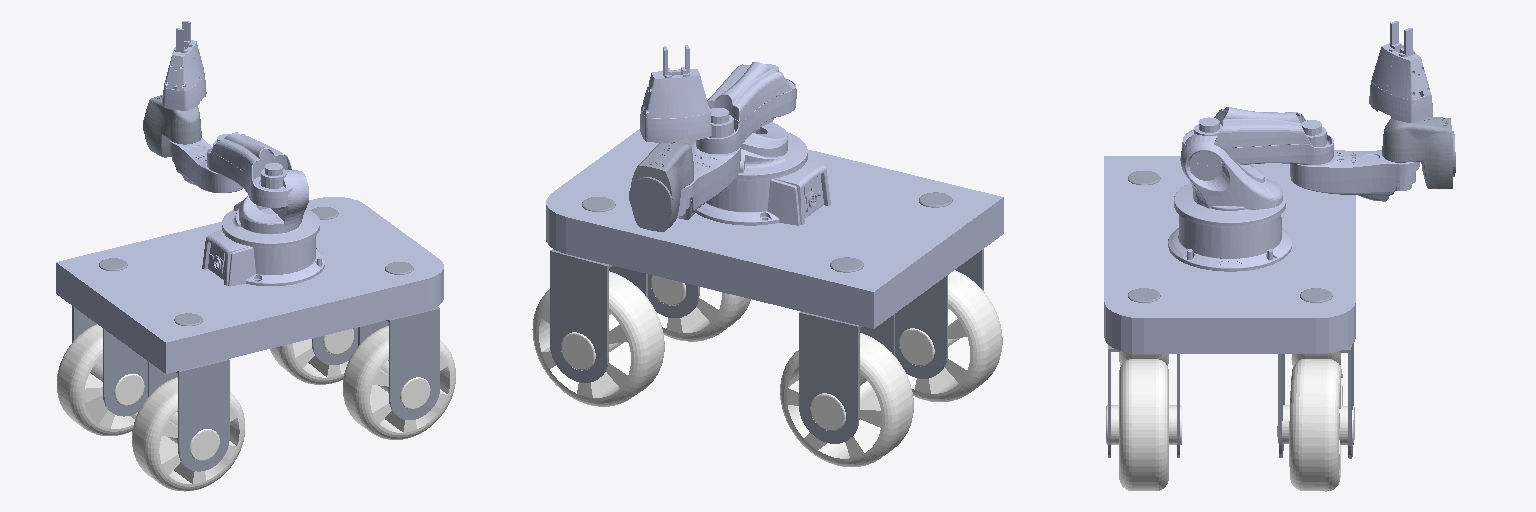
--- Facts derived from the render (not from the file) ---
Views: 3 orthographic renders of the robot side by side, from view 1: azimuth 30°, elevation 25°; view 2: azimuth 150°, elevation 25°; view 3: azimuth 270°, elevation 25°.
Robot: w_bot — 20 links, 19 joints (5 revolute, 8 continuous, 2 prismatic, 4 fixed); root link dummy_link; default pose: all joints at 0.
Links seen in each view (by area): view 1: base_link, front_right_wheel, rear_right_wheel, rear_left_wheel, rear_right_steering, front_right_steering, link0, link1, link2, rear_left_steering, front_left_wheel, link4 (+4 smaller); view 2: base_link, front_left_wheel, rear_left_wheel, rear_right_wheel, rear_left_steering, front_left_steering, link2, link0, link4, rear_right_steering, front_right_wheel, link1 (+5 smaller); view 3: base_link, front_left_wheel, front_right_wheel, link1, link2, link0, link3, link4, front_left_steering, gripper_palm_right, link5, front_right_steering (+1 smaller).
Link boxes in pixels (box(x1,y1,x2,y2)): base_link: box(56, 197, 443, 373); front_right_wheel: box(343, 326, 455, 439); rear_right_wheel: box(132, 377, 244, 491); rear_left_wheel: box(57, 324, 144, 435); rear_right_steering: box(148, 313, 229, 471); front_right_steering: box(358, 262, 439, 419); link0: box(202, 230, 324, 286); link1: box(222, 170, 319, 247); link2: box(207, 132, 292, 207); rear_left_steering: box(72, 258, 147, 416); front_left_wheel: box(270, 329, 353, 384); link4: box(143, 95, 201, 157); base_link: box(546, 129, 1003, 328); front_left_wheel: box(532, 271, 664, 406); rear_left_wheel: box(780, 333, 913, 466); rear_right_wheel: box(899, 270, 1002, 401); rear_left_steering: box(799, 257, 894, 443); front_left_steering: box(550, 197, 647, 382); link2: box(696, 62, 796, 153); link0: box(695, 159, 830, 225); link4: box(629, 140, 693, 231); rear_right_steering: box(895, 192, 983, 378); front_right_wheel: box(651, 275, 750, 341); link1: box(695, 118, 807, 180); base_link: box(1104, 156, 1355, 353); front_left_wheel: box(1277, 359, 1354, 491); front_right_wheel: box(1106, 359, 1181, 490); link1: box(1174, 134, 1285, 227); link2: box(1182, 107, 1333, 164); link0: box(1168, 215, 1291, 271); link3: box(1290, 150, 1419, 201); link4: box(1382, 116, 1455, 188); front_left_steering: box(1278, 288, 1353, 458); gripper_palm_right: box(1386, 53, 1430, 99); link5: box(1369, 81, 1432, 122); front_right_steering: box(1108, 288, 1179, 457).
Size in the robot's own frame: 0.6207 by 0.5305 by 0.6694 metres.
Meshes: 19 distinct files referenced, 19 mesh visuals loaded (19 binary STL).

The robot description file, URDF, robot "w_bot":
<?xml version="1.0" encoding="utf-8"?>
<!-- This URDF was automatically created by SolidWorks to URDF Exporter! Originally created by Stephen Brawner ([email redacted]) 
     Commit Version: 1.6.0-4-g7f85cfe  Build Version: 1.6.7995.38578
     For more information, please see http://wiki.ros.org/sw_urdf_exporter -->
<robot
  name="w_bot">
  <link
    name="dummy_link">
  </link>
  <link
    name="base_link">
    <inertial>
      <origin
        xyz="-0.00200699862576349 -2.13312816867861E-17 0.285008038445475"
        rpy="0 0 0" />
      <mass
        value="25" />
      <inertia
        ixx="0.151999823484139"
        ixy="-9.91313365304454E-17"
        ixz="-9.36517175515617E-06"
        iyy="0.346524834291877"
        iyz="9.70554700988311E-19"
        izz="0.490920314893153" />
    </inertial>
    <visual>
      <origin
        xyz="0 0 0"
        rpy="0 0 0" />
      <geometry>
        <mesh
          filename="package://w_bot/meshes/base_link.STL" />
      </geometry>
      <material
        name="">
        <color
          rgba="0.792156862745098 0.819607843137255 0.933333333333333 1" />
      </material>
    </visual>
    <collision>
      <origin
        xyz="0 0 0"
        rpy="0 0 0" />
      <geometry>
        <mesh
          filename="package://w_bot/meshes/base_link.STL" />
      </geometry>
    </collision>
  </link>
  <joint
    name="dummy_joint0"
    type="fixed">
    <origin
      xyz="0 0 0"
      rpy="0 0 0" />
    <parent
      link="dummy_link" />
    <child
      link="base_link" />
    <axis
      xyz="0 0 1" />
  </joint>
  <link
    name="front_right_steering">
    <inertial>
      <origin
        xyz="0 -8.32667268468867E-17 -0.0948745119015975"
        rpy="0 0 0" />
      <mass
        value="0.343325535524776" />
      <inertia
        ixx="0.00209048259873069"
        ixy="4.0272764241542E-19"
        ixz="2.04108871969044E-19"
        iyy="0.00178958510713681"
        iyz="-6.59981132775866E-19"
        izz="0.000711889056391906" />
    </inertial>
    <visual>
      <origin
        xyz="0 0 0"
        rpy="0 0 0" />
      <geometry>
        <mesh
          filename="package://w_bot/meshes/front_right_steering.STL" />
      </geometry>
      <material
        name="">
        <color
          rgba="0.666666666666667 0.698039215686274 0.768627450980392 1" />
      </material>
    </visual>
    <collision>
      <origin
        xyz="0 0 0"
        rpy="0 0 0" />
      <geometry>
        <mesh
          filename="package://w_bot/meshes/front_right_steering.STL" />
      </geometry>
    </collision>
  </link>
  <joint
    name="front_right_steering_joint"
    type="continuous">
    <origin
      xyz="0.210000000000003 -0.13 0.3175"
      rpy="0 0 0" />
    <parent
      link="base_link" />
    <child
      link="front_right_steering" />
    <axis
      xyz="0 0 -1" />
  </joint>
  <link
    name="front_right_wheel">
    <inertial>
      <origin
        xyz="8.32667268468867E-17 0 0.0575"
        rpy="0 0 0" />
      <mass
        value="1.50180593472422" />
      <inertia
        ixx="0.00471014297750242"
        ixy="-3.38536977027541E-18"
        ixz="8.72037498563415E-20"
        iyy="0.00471014297750241"
        iyz="-8.2511266102166E-21"
        izz="0.00773327256883762" />
    </inertial>
    <visual>
      <origin
        xyz="0 0 0"
        rpy="0 0 0" />
      <geometry>
        <mesh
          filename="package://w_bot/meshes/front_right_wheel.STL" />
      </geometry>
      <material
        name="">
        <color
          rgba="1 1 1 1" />
      </material>
    </visual>
    <collision>
      <origin
        xyz="0 0 0"
        rpy="0 0 0" />
      <geometry>
        <mesh
          filename="package://w_bot/meshes/front_right_wheel.STL" />
      </geometry>
    </collision>
  </link>
  <joint
    name="front_right_wheel_joint"
    type="continuous">
    <origin
      xyz="0 -0.0575 -0.2175"
      rpy="1.5707963267949 0 3.14159265358979" />
    <parent
      link="front_right_steering" />
    <child
      link="front_right_wheel" />
    <axis
      xyz="0 0 1" />
  </joint>
  <link
    name="rear_right_steering">
    <inertial>
      <origin
        xyz="0 -2.77555756156289E-17 -0.0948745119015975"
        rpy="0 0 0" />
      <mass
        value="0.343325535524776" />
      <inertia
        ixx="0.00209048259873069"
        ixy="6.37440896126237E-20"
        ixz="-2.42768495506772E-19"
        iyy="0.00178958510713681"
        iyz="-4.51231378619127E-19"
        izz="0.000711889056391905" />
    </inertial>
    <visual>
      <origin
        xyz="0 0 0"
        rpy="0 0 0" />
      <geometry>
        <mesh
          filename="package://w_bot/meshes/rear_right_steering.STL" />
      </geometry>
      <material
        name="">
        <color
          rgba="0.666666666666667 0.698039215686274 0.768627450980392 1" />
      </material>
    </visual>
    <collision>
      <origin
        xyz="0 0 0"
        rpy="0 0 0" />
      <geometry>
        <mesh
          filename="package://w_bot/meshes/rear_right_steering.STL" />
      </geometry>
    </collision>
  </link>
  <joint
    name="rear_right_steering_joint"
    type="continuous">
    <origin
      xyz="-0.209999999999997 -0.13 0.3175"
      rpy="0 0 0" />
    <parent
      link="base_link" />
    <child
      link="rear_right_steering" />
    <axis
      xyz="0 0 -1" />
  </joint>
  <link
    name="rear_right_wheel">
    <inertial>
      <origin
        xyz="5.55111512312578E-17 0 0.0575"
        rpy="0 0 0" />
      <mass
        value="1.50180593472422" />
      <inertia
        ixx="0.00471014297750242"
        ixy="-3.35268579796889E-18"
        ixz="-3.46813134033493E-20"
        iyy="0.00471014297750242"
        iyz="1.21802345198436E-20"
        izz="0.00773327256883763" />
    </inertial>
    <visual>
      <origin
        xyz="0 0 0"
        rpy="0 0 0" />
      <geometry>
        <mesh
          filename="package://w_bot/meshes/rear_right_wheel.STL" />
      </geometry>
      <material
        name="">
        <color
          rgba="1 1 1 1" />
      </material>
    </visual>
    <collision>
      <origin
        xyz="0 0 0"
        rpy="0 0 0" />
      <geometry>
        <mesh
          filename="package://w_bot/meshes/rear_right_wheel.STL" />
      </geometry>
    </collision>
  </link>
  <joint
    name="rear_right_wheel_joint"
    type="continuous">
    <origin
      xyz="0 -0.0575 -0.2175"
      rpy="1.5707963267949 0 3.14159265358979" />
    <parent
      link="rear_right_steering" />
    <child
      link="rear_right_wheel" />
    <axis
      xyz="0 0 1" />
  </joint>
  <link
    name="rear_left_steering">
    <inertial>
      <origin
        xyz="-2.22044604925031E-16 -2.4980018054066E-16 -0.0948745119015974"
        rpy="0 0 0" />
      <mass
        value="0.343325535524775" />
      <inertia
        ixx="0.00209047454949007"
        ixy="1.55625560880888E-06"
        ixz="3.58407778364854E-19"
        iyy="0.00178959315637742"
        iyz="-1.27594134373904E-18"
        izz="0.000711889056391906" />
    </inertial>
    <visual>
      <origin
        xyz="0 0 0"
        rpy="0 0 0" />
      <geometry>
        <mesh
          filename="package://w_bot/meshes/rear_left_steering.STL" />
      </geometry>
      <material
        name="">
        <color
          rgba="0.666666666666667 0.698039215686274 0.768627450980392 1" />
      </material>
    </visual>
    <collision>
      <origin
        xyz="0 0 0"
        rpy="0 0 0" />
      <geometry>
        <mesh
          filename="package://w_bot/meshes/rear_left_steering.STL" />
      </geometry>
    </collision>
  </link>
  <joint
    name="rear_left_steering_joint"
    type="continuous">
    <origin
      xyz="-0.21 0.13 0.3175"
      rpy="0 0 0" />
    <parent
      link="base_link" />
    <child
      link="rear_left_steering" />
    <axis
      xyz="0 0 -1" />
  </joint>
  <link
    name="rear_left_wheel">
    <inertial>
      <origin
        xyz="2.77555756156289E-17 8.32667268468867E-17 -0.0575"
        rpy="0 0 0" />
      <mass
        value="1.50180593472422" />
      <inertia
        ixx="0.00471014297750242"
        ixy="3.72845188547579E-18"
        ixz="1.91429446079472E-19"
        iyy="0.00471014297750242"
        iyz="6.19925579287662E-20"
        izz="0.00773327256883763" />
    </inertial>
    <visual>
      <origin
        xyz="0 0 0"
        rpy="0 0 0" />
      <geometry>
        <mesh
          filename="package://w_bot/meshes/rear_left_wheel.STL" />
      </geometry>
      <material
        name="">
        <color
          rgba="1 1 1 1" />
      </material>
    </visual>
    <collision>
      <origin
        xyz="0 0 0"
        rpy="0 0 0" />
      <geometry>
        <mesh
          filename="package://w_bot/meshes/rear_left_wheel.STL" />
      </geometry>
    </collision>
  </link>
  <joint
    name="rear_left_wheel_joint"
    type="continuous">
    <origin
      xyz="-0.000297396611546957 0.0574992309101214 -0.2175"
      rpy="1.5707963267949 0 -3.13642051554641" />
    <parent
      link="rear_left_steering" />
    <child
      link="rear_left_wheel" />
    <axis
      xyz="0 0 1" />
  </joint>
  <link
    name="front_left_steering">
    <inertial>
      <origin
        xyz="0 -1.11022302462516E-16 -0.0948745119015975"
        rpy="0 0 0" />
      <mass
        value="0.343325535524776" />
      <inertia
        ixx="0.00208995035472705"
        ixy="-1.26438760644486E-05"
        ixz="-2.44947869489773E-19"
        iyy="0.00179011735114046"
        iyz="-9.75110720971707E-19"
        izz="0.000711889056391904" />
    </inertial>
    <visual>
      <origin
        xyz="0 0 0"
        rpy="0 0 0" />
      <geometry>
        <mesh
          filename="package://w_bot/meshes/front_left_steering.STL" />
      </geometry>
      <material
        name="">
        <color
          rgba="0.666666666666667 0.698039215686274 0.768627450980392 1" />
      </material>
    </visual>
    <collision>
      <origin
        xyz="0 0 0"
        rpy="0 0 0" />
      <geometry>
        <mesh
          filename="package://w_bot/meshes/front_left_steering.STL" />
      </geometry>
    </collision>
  </link>
  <joint
    name="front_left_steering_joint"
    type="continuous">
    <origin
      xyz="0.21 0.13 0.3175"
      rpy="0 0 0" />
    <parent
      link="base_link" />
    <child
      link="front_left_steering" />
    <axis
      xyz="0 0 -1" />
  </joint>
  <link
    name="front_left_wheel">
    <inertial>
      <origin
        xyz="8.32667268468867E-17 0 -0.0575"
        rpy="0 0 0" />
      <mass
        value="1.50180593472422" />
      <inertia
        ixx="0.00471014297750242"
        ixy="-3.20351669583436E-18"
        ixz="-1.21972744404619E-19"
        iyy="0.00471014297750241"
        iyz="-6.08234008535393E-20"
        izz="0.00773327256883762" />
    </inertial>
    <visual>
      <origin
        xyz="0 0 0"
        rpy="0 0 0" />
      <geometry>
        <mesh
          filename="package://w_bot/meshes/front_left_wheel.STL" />
      </geometry>
      <material
        name="">
        <color
          rgba="1 1 1 1" />
      </material>
    </visual>
    <collision>
      <origin
        xyz="0 0 0"
        rpy="0 0 0" />
      <geometry>
        <mesh
          filename="package://w_bot/meshes/front_left_wheel.STL" />
      </geometry>
    </collision>
  </link>
  <joint
    name="front_left_wheel_joint"
    type="continuous">
    <origin
      xyz="0.00241832101400169 0.0574491229130022 -0.2175"
      rpy="1.5707963267949 0 3.09952248793317" />
    <parent
      link="front_left_steering" />
    <child
      link="front_left_wheel" />
    <axis
      xyz="0 0 1" />
  </joint>
  <link
    name="link0">
    <inertial>
      <origin
        xyz="-0.00261120850252764 8.0006626810153E-06 0.0344132892443377"
        rpy="0 0 0" />
      <mass
        value="1.47778443330708" />
      <inertia
        ixx="0.00303565075376626"
        ixy="1.04893676467589E-06"
        ixz="3.04138651956345E-05"
        iyy="0.00333146452556424"
        iyz="6.92287819870057E-08"
        izz="0.00503333109253216" />
    </inertial>
    <visual>
      <origin
        xyz="0 0 0"
        rpy="0 0 0" />
      <geometry>
        <mesh
          filename="package://w_bot/meshes/link0.STL" />
      </geometry>
      <material
        name="">
        <color
          rgba="0.792156862745098 0.819607843137255 0.933333333333333 1" />
      </material>
    </visual>
    <collision>
      <origin
        xyz="0 0 0"
        rpy="0 0 0" />
      <geometry>
        <mesh
          filename="package://w_bot/meshes/link0.STL" />
      </geometry>
    </collision>
  </link>
  <joint
    name="joint0"
    type="fixed">
    <origin
      xyz="0.0291177377817213 6.99790320677758E-05 0.315"
      rpy="0 0 0" />
    <parent
      link="base_link" />
    <child
      link="link0" />
    <axis
      xyz="0 0 0" />
  </joint>
  <link
    name="link1">
    <inertial>
      <origin
        xyz="0.00514447038004035 -0.00564667876105351 0.108030009212003"
        rpy="0 0 0" />
      <mass
        value="0.733761313332628" />
      <inertia
        ixx="0.0017042580984216"
        ixy="5.12975027445611E-05"
        ixz="-0.000126172421903645"
        iyy="0.00130723288592695"
        iyz="0.000317940506748495"
        izz="0.00162933063156095" />
    </inertial>
    <visual>
      <origin
        xyz="0 0 0"
        rpy="0 0 0" />
      <geometry>
        <mesh
          filename="package://w_bot/meshes/link1.STL" />
      </geometry>
      <material
        name="">
        <color
          rgba="0.792156862745098 0.819607843137255 0.933333333333333 1" />
      </material>
    </visual>
    <collision>
      <origin
        xyz="0 0 0"
        rpy="0 0 0" />
      <geometry>
        <mesh
          filename="package://w_bot/meshes/link1.STL" />
      </geometry>
    </collision>
  </link>
  <joint
    name="joint1"
    type="revolute">
    <origin
      xyz="0 0 0"
      rpy="0 0 0" />
    <parent
      link="link0" />
    <child
      link="link1" />
    <axis
      xyz="0 0 -1" />
    <limit
      lower="-2.94"
      upper="2.94"
      effort="10"
      velocity="1" />
  </joint>
  <link
    name="link2">
    <inertial>
      <origin
        xyz="0.000510064243320618 0.0704167862887677 0.0227420598478098"
        rpy="0 0 0" />
      <mass
        value="0.693055133088331" />
      <inertia
        ixx="0.00227761838249711"
        ixy="6.85951479039397E-05"
        ixz="-5.60988557718838E-06"
        iyy="0.000485305047647708"
        iyz="-1.46012115706947E-05"
        izz="0.00229981260725225" />
    </inertial>
    <visual>
      <origin
        xyz="0 0 0"
        rpy="0 0 0" />
      <geometry>
        <mesh
          filename="package://w_bot/meshes/link2.STL" />
      </geometry>
      <material
        name="">
        <color
          rgba="0.792156862745098 0.819607843137255 0.933333333333333 1" />
      </material>
    </visual>
    <collision>
      <origin
        xyz="0 0 0"
        rpy="0 0 0" />
      <geometry>
        <mesh
          filename="package://w_bot/meshes/link2.STL" />
      </geometry>
    </collision>
  </link>
  <joint
    name="joint2"
    type="revolute">
    <origin
      xyz="-0.0126431422968624 -0.0317828720046074 0.148"
      rpy="0 0 0" />
    <parent
      link="link1" />
    <child
      link="link2" />
    <axis
      xyz="0 0 1" />
    <limit
      lower="-1.13"
      upper="1.57"
      effort="200"
      velocity="0.001" />
  </joint>
  <link
    name="link3">
    <inertial>
      <origin
        xyz="-0.00195027935401905 0.0600873359212469 -0.0265049668315571"
        rpy="0 0 0" />
      <mass
        value="0.481769271380306" />
      <inertia
        ixx="0.00128920032095572"
        ixy="3.3740459885245E-05"
        ixz="-3.49037053738101E-06"
        iyy="0.000251223115947785"
        iyz="0.000105164539831942"
        izz="0.00129655764607978" />
    </inertial>
    <visual>
      <origin
        xyz="0 0 0"
        rpy="0 0 0" />
      <geometry>
        <mesh
          filename="package://w_bot/meshes/link3.STL" />
      </geometry>
      <material
        name="">
        <color
          rgba="0.792156862745098 0.819607843137255 0.933333333333333 1" />
      </material>
    </visual>
    <collision>
      <origin
        xyz="0 0 0"
        rpy="0 0 0" />
      <geometry>
        <mesh
          filename="package://w_bot/meshes/link3.STL" />
      </geometry>
    </collision>
  </link>
  <joint
    name="joint3"
    type="revolute">
    <origin
      xyz="-0.00503598542492214 0.154918168239888 -0.00750000000000006"
      rpy="0 0 0" />
    <parent
      link="link2" />
    <child
      link="link3" />
    <axis
      xyz="0 0 1" />
    <limit
      lower="-2.61"
      upper="2.54"
      effort="150"
      velocity="0.001" />
  </joint>
  <link
    name="link4">
    <inertial>
      <origin
        xyz="0.0358903012121067 6.96736098369094E-06 0.0129069830964411"
        rpy="0 0 0" />
      <mass
        value="0.446391150983284" />
      <inertia
        ixx="0.000425196459187386"
        ixy="-9.11997785920014E-09"
        ixz="0.000122609286787366"
        iyy="0.00069200931516819"
        iyz="-2.35798983722215E-07"
        izz="0.000489011598463673" />
    </inertial>
    <visual>
      <origin
        xyz="0 0 0"
        rpy="0 0 0" />
      <geometry>
        <mesh
          filename="package://w_bot/meshes/link4.STL" />
      </geometry>
      <material
        name="">
        <color
          rgba="0.666666666666667 0.698039215686274 0.768627450980392 1" />
      </material>
    </visual>
    <collision>
      <origin
        xyz="0 0 0"
        rpy="0 0 0" />
      <geometry>
        <mesh
          filename="package://w_bot/meshes/link4.STL" />
      </geometry>
    </collision>
  </link>
  <joint
    name="joint4"
    type="revolute">
    <origin
      xyz="-0.00438618085367151 0.13492872717665 -0.00170000000000002"
      rpy="0 0 1.62820428870464" />
    <parent
      link="link3" />
    <child
      link="link4" />
    <axis
      xyz="0 0 -1" />
    <limit
      lower="-2.5"
      upper="2.5"
      effort="50"
      velocity="0.1" />
  </joint>
  <link
    name="link5">
    <inertial>
      <origin
        xyz="0.0460949377143167 0.0260205801671467 -0.479264421972465"
        rpy="0 0 0" />
      <mass
        value="24.0319602764493" />
      <inertia
        ixx="1.23006701898128"
        ixy="0.0432231898957994"
        ixz="0.0299768808470771"
        iyy="0.834148802374799"
        iyz="0.0258639445075269"
        izz="0.977772631731636" />
    </inertial>
    <visual>
      <origin
        xyz="0 0 0"
        rpy="0 0 0" />
      <geometry>
        <mesh
          filename="package://w_bot/meshes/link5.STL" />
      </geometry>
      <material
        name="">
        <color
          rgba="0.792156862745098 0.819607843137255 0.933333333333333 1" />
      </material>
    </visual>
    <collision>
      <origin
        xyz="0 0 0"
        rpy="0 0 0" />
      <geometry>
        <mesh
          filename="package://w_bot/meshes/link5.STL" />
      </geometry>
    </collision>
  </link>
  <joint
    name="joint5"
    type="revolute">
    <origin
      xyz="0 0 0"
      rpy="0 0 0" />
    <parent
      link="link4" />
    <child
      link="link5" />
    <axis
      xyz="0 0 -1" />
    <limit
      lower="-2.9"
      upper="2.9"
      effort="25"
      velocity="1" />
  </joint>
  <link
    name="gripper_palm_left">
    <inertial>
      <origin
        xyz="0.000229835745878836 0.0207985081850281 0.0240642112150747"
        rpy="0 0 0" />
      <mass
        value="0.0713145449930531" />
      <inertia
        ixx="3.01150026931823E-05"
        ixy="3.30348229797603E-08"
        ixz="1.10698296624696E-08"
        iyy="3.30864068595941E-05"
        iyz="1.32246210333814E-06"
        izz="2.43258650049354E-05" />
    </inertial>
    <visual>
      <origin
        xyz="0 0 0"
        rpy="0 0 0" />
      <geometry>
        <mesh
          filename="package://w_bot/meshes/gripper_palm_left.STL" />
      </geometry>
      <material
        name="">
        <color
          rgba="0.792156862745098 0.819607843137255 0.933333333333333 1" />
      </material>
    </visual>
    <collision>
      <origin
        xyz="0 0 0"
        rpy="0 0 0" />
      <geometry>
        <mesh
          filename="package://w_bot/meshes/gripper_palm_left.STL" />
      </geometry>
    </collision>
  </link>
  <joint
    name="gripper_palm_left_joint"
    type="fixed">
    <origin
      xyz="0 0.0016000000000001 0.114600000000015"
      rpy="0 0 0.653139059166683" />
    <parent
      link="link5" />
    <child
      link="gripper_palm_left" />
    <axis
      xyz="0 0 0" />
  </joint>
  <link
    name="finger_left">
    <inertial>
      <origin
        xyz="0.0145561468305089 -0.00177284153980269 0.00378643187939565"
        rpy="0 0 0" />
      <mass
        value="0.00670310492452354" />
      <inertia
        ixx="2.86335685110243E-06"
        ixy="-6.24054240225482E-10"
        ixz="-2.16473655628847E-07"
        iyy="2.79738281964956E-06"
        iyz="2.04746041239626E-09"
        izz="1.78915238314422E-07" />
    </inertial>
    <visual>
      <origin
        xyz="0 0 0"
        rpy="0 0 0" />
      <geometry>
        <mesh
          filename="package://w_bot/meshes/finger_left.STL" />
      </geometry>
      <material
        name="">
        <color
          rgba="0.792156862745098 0.819607843137255 0.933333333333333 1" />
      </material>
    </visual>
    <collision>
      <origin
        xyz="0 0 0"
        rpy="0 0 0" />
      <geometry>
        <mesh
          filename="package://w_bot/meshes/finger_left.STL" />
      </geometry>
    </collision>
  </link>
  <joint
    name="finger_left_joint"
    type="prismatic">
    <origin
      xyz="0 0 0.058"
      rpy="0 0 1.5693" />
    <parent
      link="gripper_palm_left" />
    <child
      link="finger_left" />
    <axis
      xyz="1 0 0" />
    <limit
      lower="0"
      upper="-0.0085"
      effort="1"
      velocity="0.001" />
  </joint>
  <link
    name="gripper_palm_right">
    <inertial>
      <origin
        xyz="-3.29660182182626E-05 -0.0208000625376352 0.0240641413795085"
        rpy="0 0 0" />
      <mass
        value="0.0713160023535917" />
      <inertia
        ixx="3.01151741417681E-05"
        ixy="5.12995378232713E-09"
        ixz="1.51155601253143E-09"
        iyy="3.30869800124167E-05"
        iyz="-1.32263213649164E-06"
        izz="2.43263243109523E-05" />
    </inertial>
    <visual>
      <origin
        xyz="0 0 0"
        rpy="0 0 0" />
      <geometry>
        <mesh
          filename="package://w_bot/meshes/gripper_palm_right.STL" />
      </geometry>
      <material
        name="">
        <color
          rgba="0.792156862745098 0.819607843137255 0.933333333333333 1" />
      </material>
    </visual>
    <collision>
      <origin
        xyz="0 0 0"
        rpy="0 0 0" />
      <geometry>
        <mesh
          filename="package://w_bot/meshes/gripper_palm_right.STL" />
      </geometry>
    </collision>
  </link>
  <joint
    name="gripper_palm_right_joint"
    type="fixed">
    <origin
      xyz="0 0.0016000000000001 0.114600000000015"
      rpy="0 0 0.653139059166683" />
    <parent
      link="link5" />
    <child
      link="gripper_palm_right" />
    <axis
      xyz="0 0 0" />
  </joint>
  <link
    name="finger_right">
    <inertial>
      <origin
        xyz="-0.0140945198980545 -0.00163509283293525 0.00378643187939542"
        rpy="0 0 0" />
      <mass
        value="0.00670310492452355" />
      <inertia
        ixx="2.863362753559E-06"
        ixy="2.11758236813575E-22"
        ixz="2.16483338101245E-07"
        iyy="2.79737691719298E-06"
        iyz="-1.6675961149069E-21"
        izz="1.78915238314422E-07" />
    </inertial>
    <visual>
      <origin
        xyz="0 0 0"
        rpy="0 0 0" />
      <geometry>
        <mesh
          filename="package://w_bot/meshes/finger_right.STL" />
      </geometry>
      <material
        name="">
        <color
          rgba="0.792156862745098 0.819607843137255 0.933333333333333 1" />
      </material>
    </visual>
    <collision>
      <origin
        xyz="0 0 0"
        rpy="0 0 0" />
      <geometry>
        <mesh
          filename="package://w_bot/meshes/finger_right.STL" />
      </geometry>
    </collision>
  </link>
  <joint
    name="finger_right_joint"
    type="prismatic">
    <origin
      xyz="0 0 0.058"
      rpy="0 0 1.5693" />
    <parent
      link="gripper_palm_right" />
    <child
      link="finger_right" />
    <axis
      xyz="1 0 0" />
    <limit
      lower="0"
      upper="0.0085"
      effort="1"
      velocity="0.001" />
  </joint>
  <transmission name="rear_right_wheel_trans">
    <type>transmission_interface/SimpleTransmission</type>
    <joint name="rear_right_wheel_joint">
      <hardwareInterface>VelocityJointInterface</hardwareInterface>
    </joint>
    <actuator name="rear_right_wheel_motor">
      <mechanicalReduction>1</mechanicalReduction>
      <hardwareInterface>VelocityJointInterface</hardwareInterface>
    </actuator>
  </transmission>
  <transmission name="rear_left_wheel_trans">
    <type>transmission_interface/SimpleTransmission</type>
    <joint name="rear_left_wheel_joint">
      <hardwareInterface>VelocityJointInterface</hardwareInterface>
    </joint>
    <actuator name="rear_left_wheel_motor">
      <mechanicalReduction>1</mechanicalReduction>
      <hardwareInterface>VelocityJointInterface</hardwareInterface>
    </actuator>
  </transmission>
  <transmission name="front_right_wheel_trans">
    <type>transmission_interface/SimpleTransmission</type>
    <joint name="front_right_wheel_joint">
      <hardwareInterface>VelocityJointInterface</hardwareInterface>
    </joint>
    <actuator name="front_right_wheel_motor">
      <mechanicalReduction>1</mechanicalReduction>
      <hardwareInterface>VelocityJointInterface</hardwareInterface>
    </actuator>
  </transmission>
  <transmission name="front_left_wheel_trans">
    <type>transmission_interface/SimpleTransmission</type>
    <joint name="front_left_wheel_joint">
      <hardwareInterface>VelocityJointInterface</hardwareInterface>
    </joint>
    <actuator name="front_left_wheel_motor">
      <mechanicalReduction>1</mechanicalReduction>
      <hardwareInterface>VelocityJointInterface</hardwareInterface>
    </actuator>
  </transmission>
  <transmission name="front_right_steering_trans">
    <type>transmission_interface/SimpleTransmission</type>
    <joint name="front_right_steering_joint">
      <hardwareInterface>EffortJointInterface</hardwareInterface>
    </joint>
    <actuator name="front_right_steering_motor">
      <mechanicalReduction>1</mechanicalReduction>
      <hardwareInterface>EffortJointInterface</hardwareInterface>
    </actuator>
  </transmission>
  <transmission name="rear_right_steering_trans">
    <type>transmission_interface/SimpleTransmission</type>
    <joint name="rear_right_steering_joint">
      <hardwareInterface>EffortJointInterface</hardwareInterface>
    </joint>
    <actuator name="rear_right_steering_motor">
      <mechanicalReduction>1</mechanicalReduction>
      <hardwareInterface>EffortJointInterface</hardwareInterface>
    </actuator>
  </transmission>
  <transmission name="rear_left_steering_trans">
    <type>transmission_interface/SimpleTransmission</type>
    <joint name="rear_left_steering_joint">
      <hardwareInterface>EffortJointInterface</hardwareInterface>
    </joint>
    <actuator name="rear_left_steering_motor">
      <mechanicalReduction>1</mechanicalReduction>
      <hardwareInterface>EffortJointInterface</hardwareInterface>
    </actuator>
  </transmission>
  <transmission name="front_left_steering_trans">
    <type>transmission_interface/SimpleTransmission</type>
    <joint name="front_left_steering_joint">
      <hardwareInterface>EffortJointInterface</hardwareInterface>
    </joint>
    <actuator name="front_left_steering_motor">
      <mechanicalReduction>1</mechanicalReduction>
      <hardwareInterface>EffortJointInterface</hardwareInterface>
   </actuator>
 </transmission>
 
 <transmission name="joint1_trans">
  <type>transmission_interface/SimpleTransmission</type>
  <joint name="joint1">
    <hardwareInterface>EffortJointInterface</hardwareInterface>
  </joint>
  <actuator name="joint1_motor">
    <mechanicalReduction>1</mechanicalReduction>
    <hardwareInterface>EffortJointInterface</hardwareInterface>
  </actuator>
 </transmission>
 
   <transmission name="joint2_trans">
  <type>transmission_interface/SimpleTransmission</type>
  <joint name="joint2">
    <hardwareInterface>EffortJointInterface</hardwareInterface>
  </joint>
  <actuator name="joint2_motor">
    <mechanicalReduction>1</mechanicalReduction>
    <hardwareInterface>EffortJointInterface</hardwareInterface>
  </actuator>
 </transmission>
 
   <transmission name="joint3_trans">
  <type>transmission_interface/SimpleTransmission</type>
  <joint name="joint3">
    <hardwareInterface>EffortJointInterface</hardwareInterface>
  </joint>
  <actuator name="joint3_motor">
    <mechanicalReduction>1</mechanicalReduction>
    <hardwareInterface>EffortJointInterface</hardwareInterface>
  </actuator>
 </transmission>
 
   <transmission name="joint4_trans">
  <type>transmission_interface/SimpleTransmission</type>
  <joint name="joint4">
    <hardwareInterface>EffortJointInterface</hardwareInterface>
  </joint>
  <actuator name="joint4_motor">
    <mechanicalReduction>1</mechanicalReduction>
    <hardwareInterface>EffortJointInterface</hardwareInterface>
  </actuator>
 </transmission>
 
   <transmission name="joint5_trans">
  <type>transmission_interface/SimpleTransmission</type>
  <joint name="joint5">
    <hardwareInterface>EffortJointInterface</hardwareInterface>
  </joint>
  <actuator name="joint5_motor">
    <mechanicalReduction>1</mechanicalReduction>
    <hardwareInterface>EffortJointInterface</hardwareInterface>
  </actuator>
 </transmission>
 <transmission name="finger_left_trans">
  <type>transmission_interface/SimpleTransmission</type>
  <joint name="finger_left_joint">
    <hardwareInterface>EffortJointInterface</hardwareInterface>
  </joint>
  <actuator name="finger_left_motor">
    <mechanicalReduction>1</mechanicalReduction>
    <hardwareInterface>EffortJointInterface</hardwareInterface>
  </actuator>
 </transmission>
 <transmission name="finger_right_trans">
  <type>transmission_interface/SimpleTransmission</type>
  <joint name="finger_right_joint">
    <hardwareInterface>EffortJointInterface</hardwareInterface>
  </joint>
  <actuator name="finger_right_motor">
    <mechanicalReduction>1</mechanicalReduction>
    <hardwareInterface>EffortJointInterface</hardwareInterface>
  </actuator>
 </transmission>
</robot>
